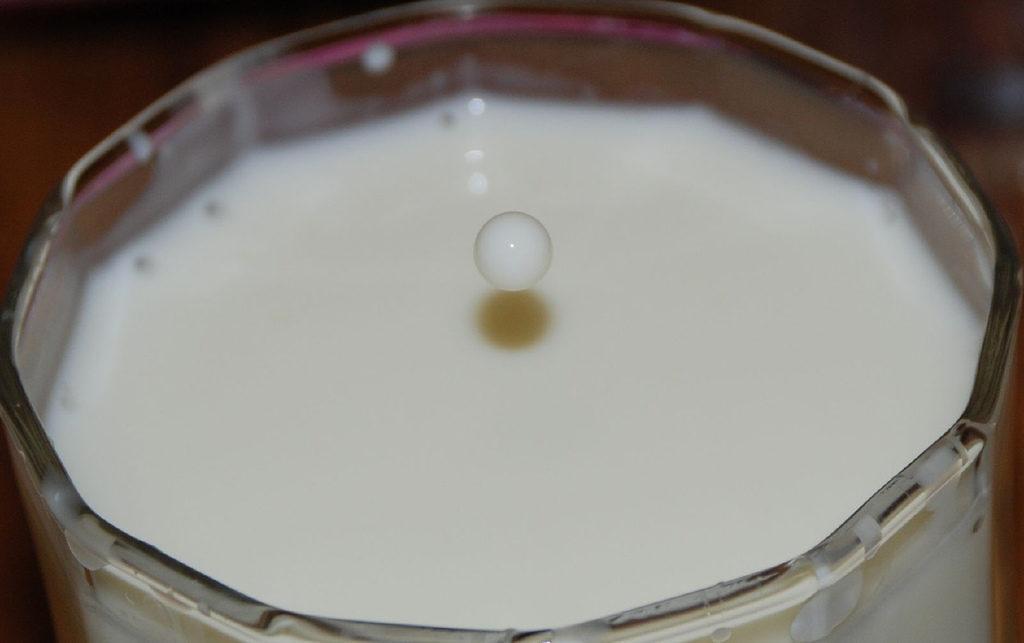glass of milk: (35, 34, 992, 643)
